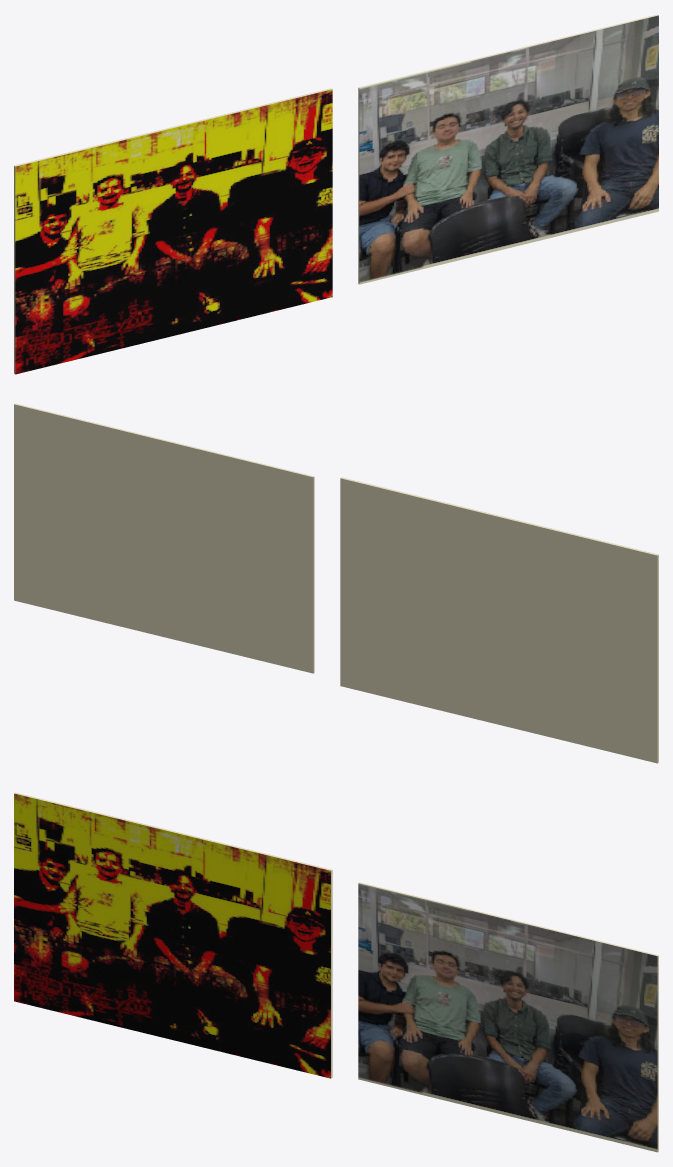
Rendered from FOTOGRAFIAS.fbx.
The picture shows the model from 3 angles, top to bottom: view 1: azimuth 30°, elevation 25°; view 2: azimuth 150°, elevation 25°; view 3: azimuth 330°, elevation 25°; orthographic projection.
Parts seen in each view (by area): view 1: Cube.068, Cube.069; view 2: Cube.068, Cube.069; view 3: Cube.068, Cube.069.
Boxes of the visible parts, x1,y1,x2,y2 form: Cube.068: (14, 88, 332, 374); Cube.069: (358, 14, 658, 284); Cube.068: (340, 477, 658, 763); Cube.069: (14, 403, 314, 673); Cube.068: (14, 792, 332, 1078); Cube.069: (358, 882, 658, 1152).
Size of the model in its own units: 134 by 41.38 by 0.5089.
